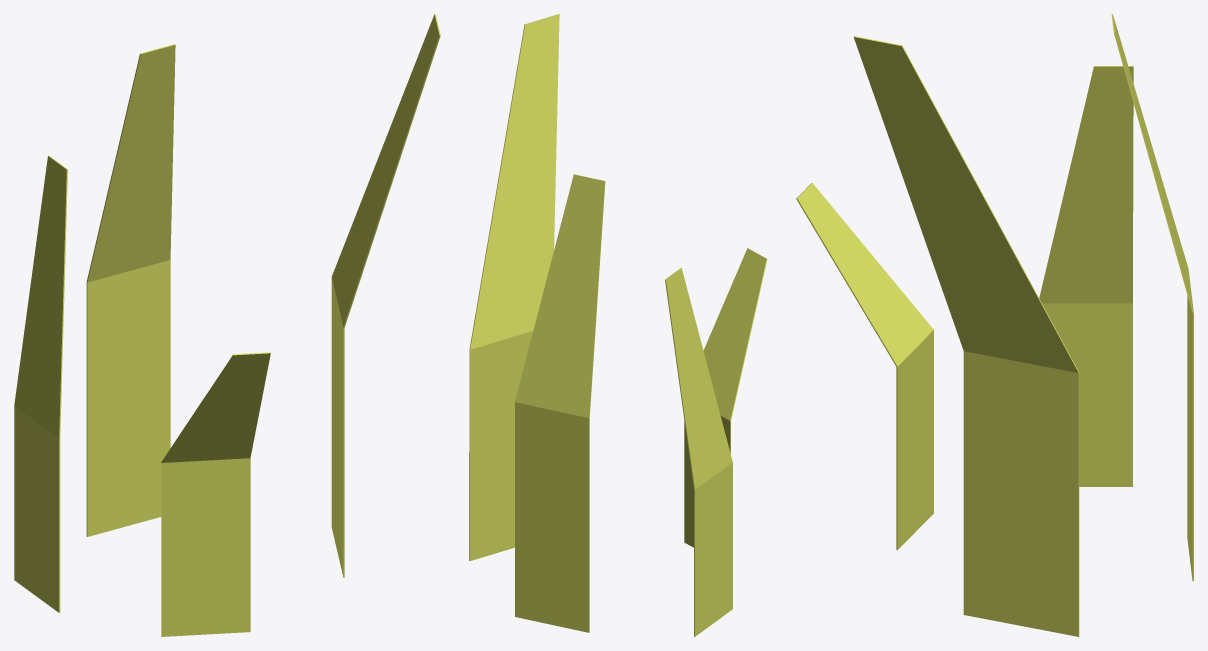
File: Garass1.fbx
The picture shows the model from 3 angles, left to right: view 1: azimuth 30°, elevation 25°; view 2: azimuth 150°, elevation 25°; view 3: azimuth 270°, elevation 25°; orthographic projection. The views are drawn at different scales.
Parts seen in each view (by area): view 1: Plane; view 2: Plane; view 3: Plane.
Part boxes in pixels (left/top/right/bottom): Plane: left=14, top=14, right=440, bottom=636; Plane: left=469, top=14, right=767, bottom=636; Plane: left=796, top=14, right=1193, bottom=636.
Size of the model in its own units: 34.91 by 61 by 36.61.
